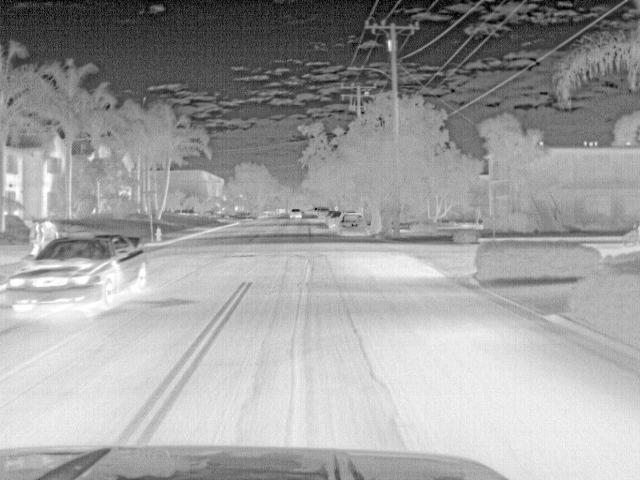car: (5, 231, 148, 315), (335, 211, 369, 239), (326, 212, 343, 231), (288, 207, 306, 222)
person: (38, 220, 59, 248), (29, 219, 43, 257)
